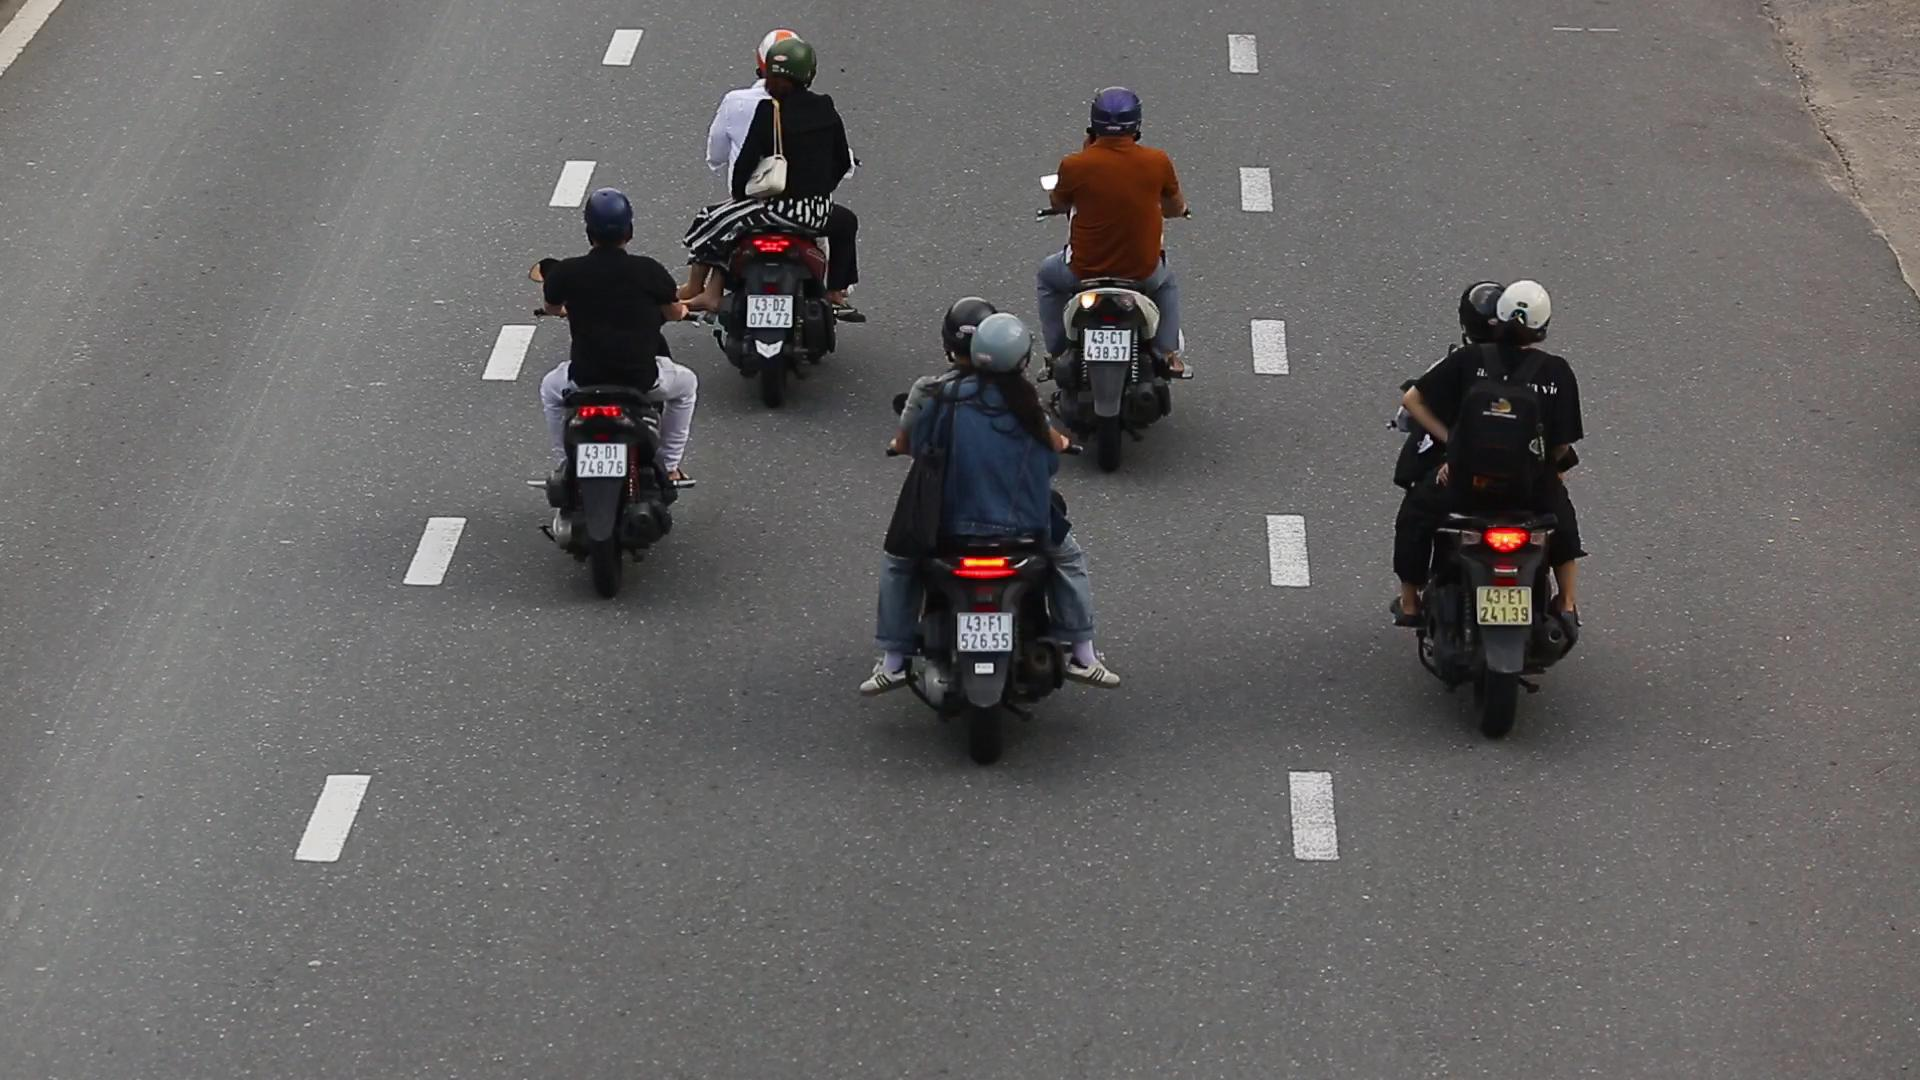motobike: (1382, 258, 1601, 738), (865, 295, 1089, 744), (530, 181, 698, 595), (694, 26, 873, 404), (1029, 73, 1203, 452)
